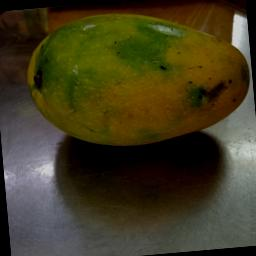Mango Unripe: (22, 0, 256, 253)
